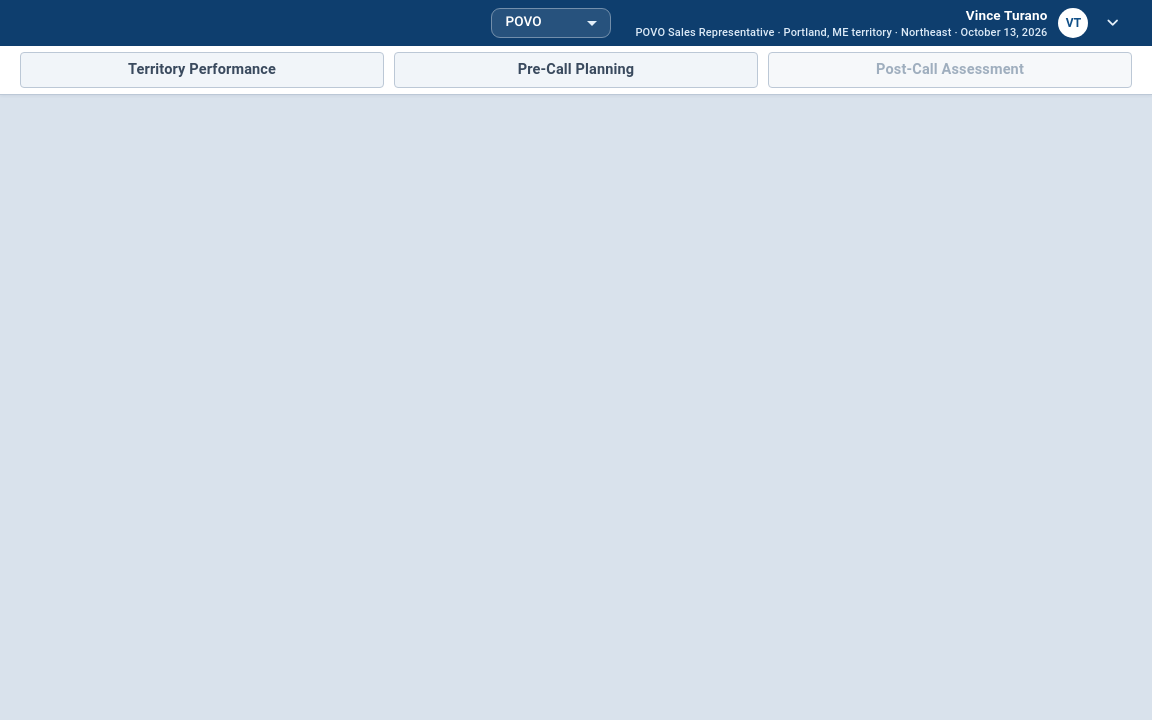
Test: brands in the shell › shows the configure link to admins only
Click the button named "Account" at (879, 23), box [625,2,1132,44]
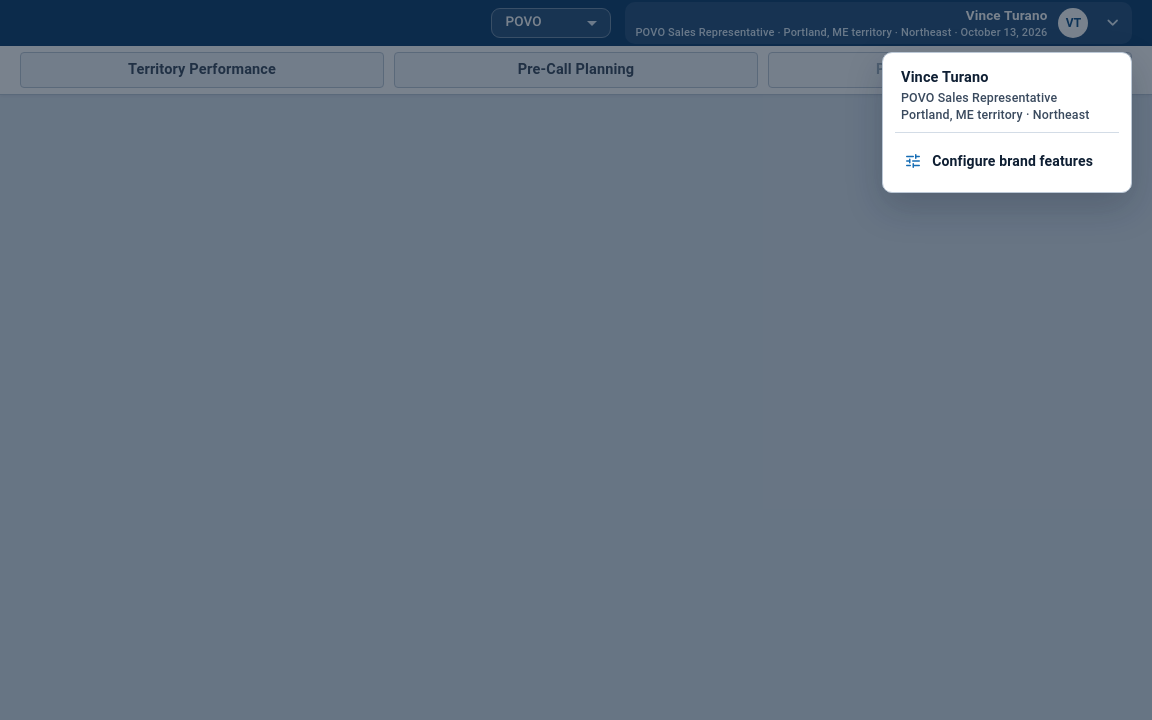
Expected: the menu item "Configure brand features" is shown, [891,138,1123,184]
